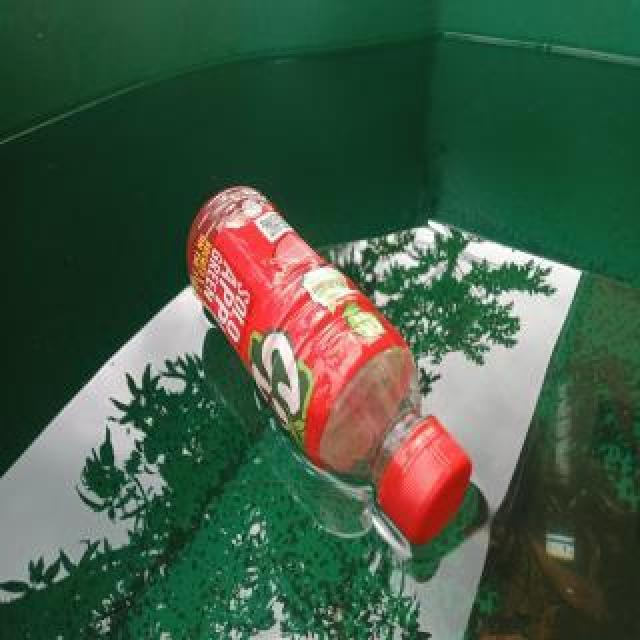bottle: (184, 179, 476, 557)
